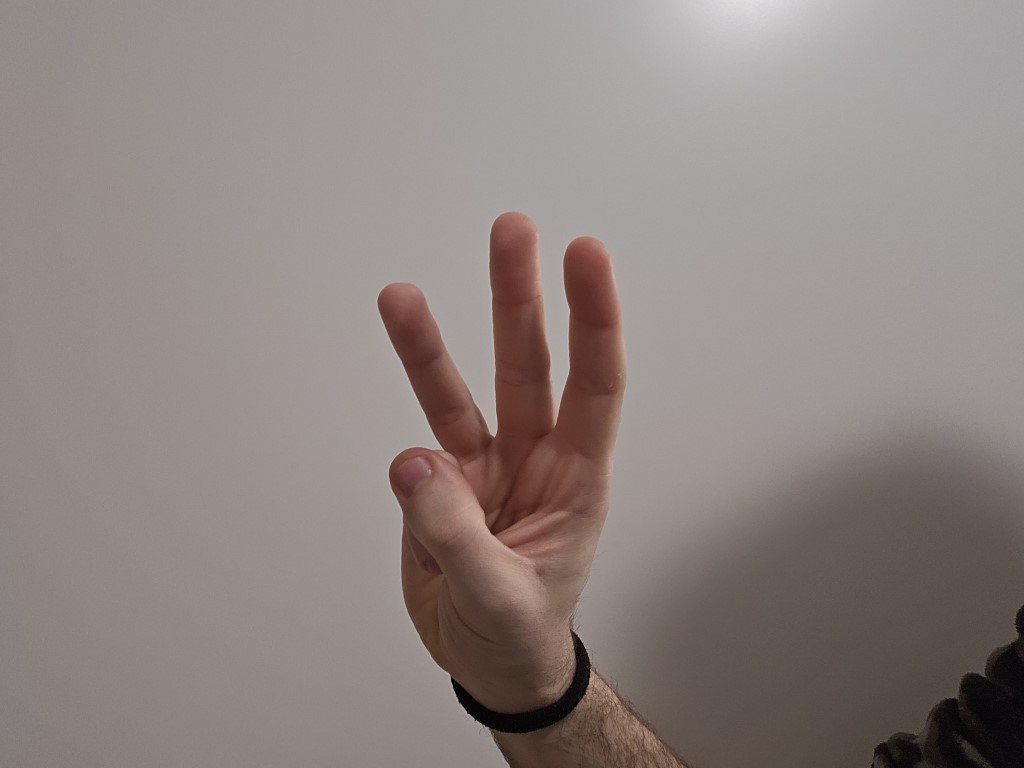w: (328, 190, 638, 687)
